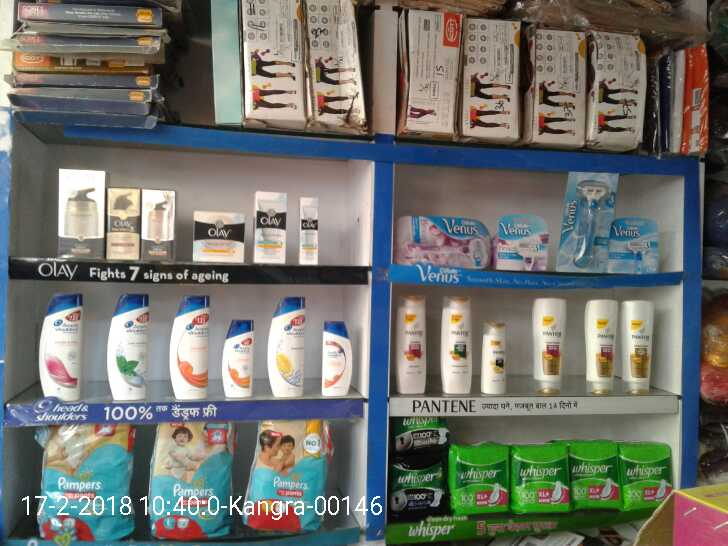venus: (393, 218, 500, 270), (570, 172, 611, 270), (501, 214, 550, 270), (611, 222, 658, 270)
